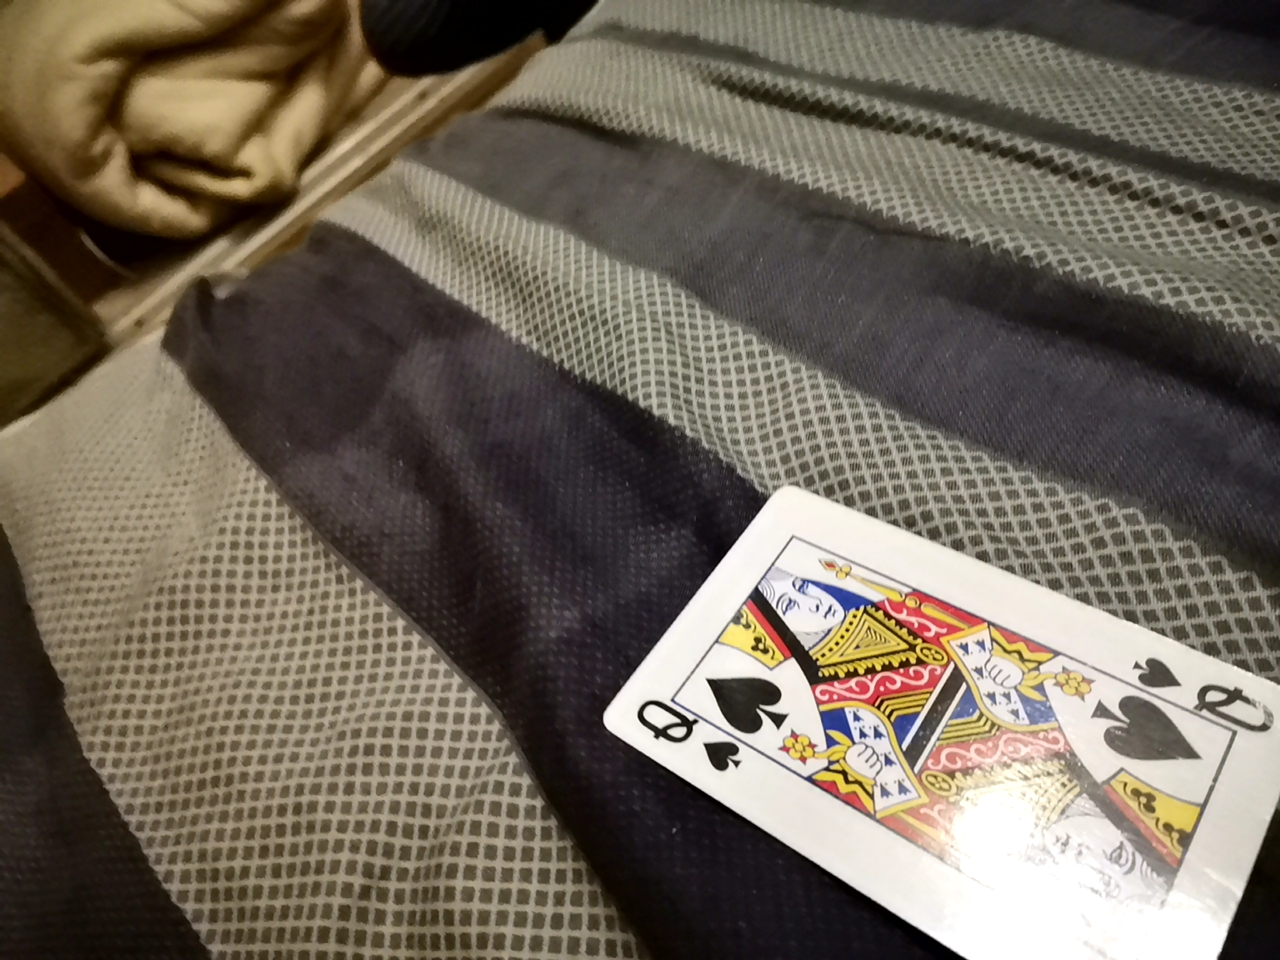ht q: (597, 474, 1276, 951)
